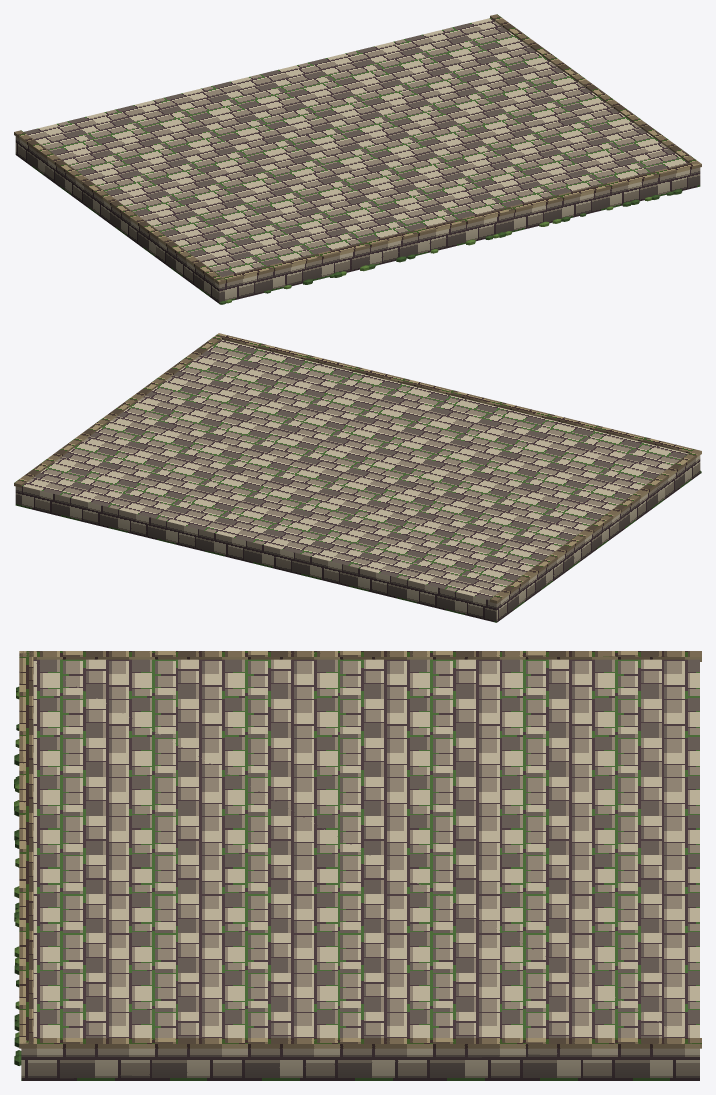
Rendered from scene_wall_s.glb.
3 views of the same model, one above another, from view 1: azimuth 30°, elevation 25°; view 2: azimuth 150°, elevation 25°; view 3: azimuth 270°, elevation 25° (orthographic). The views are drawn at different scales.
Parts seen in each view (by area): view 1: scene_wall_s; view 2: scene_wall_s; view 3: scene_wall_s.
Part boxes in pixels (x1=…): scene_wall_s: x1=14, y1=14, x2=701, y2=304; scene_wall_s: x1=14, y1=333, x2=701, y2=622; scene_wall_s: x1=14, y1=651, x2=701, y2=1080.
Bounding box in the file's own units: 24.1 × 1.17 × 17.84.
Materials: 2 (1 with a texture image).
